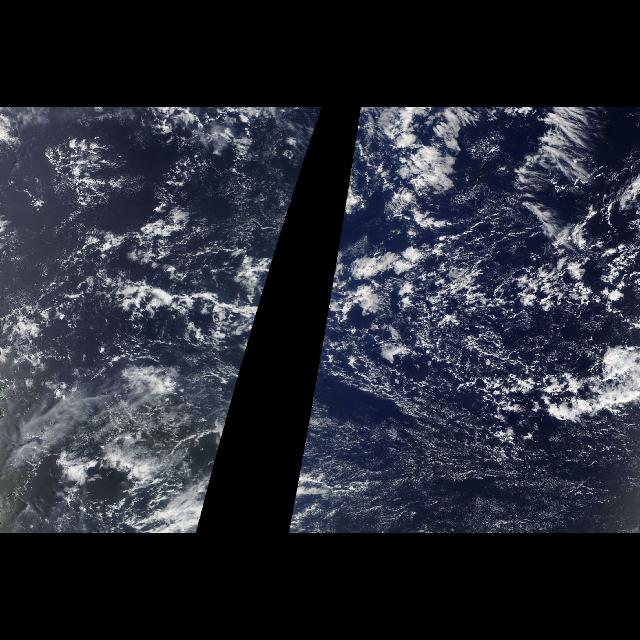Gravel: (342, 209, 640, 517), (22, 119, 245, 351)
Sugar: (286, 413, 640, 533)
